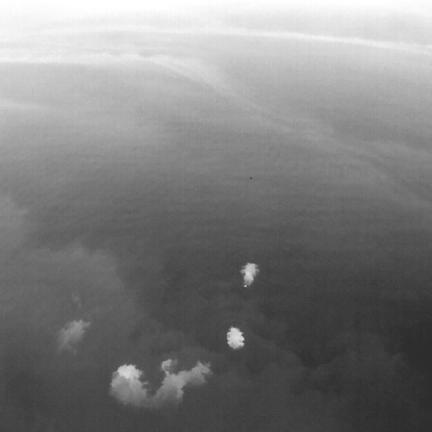flukeprints: (240, 262, 259, 286), (227, 327, 244, 348), (119, 365, 140, 381)
